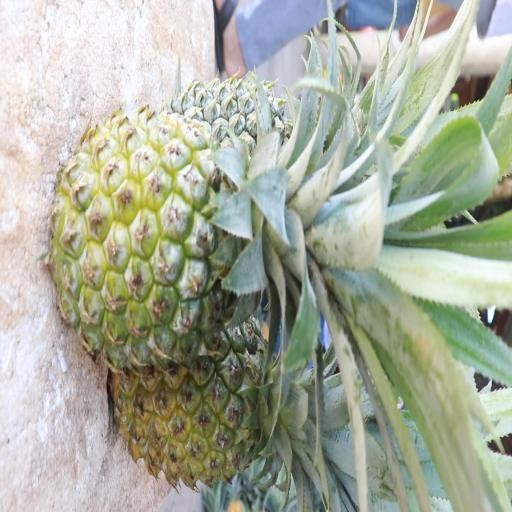------------------------------: (49, 109, 358, 361)
Pineapple - v8 v1: (112, 328, 325, 485)
